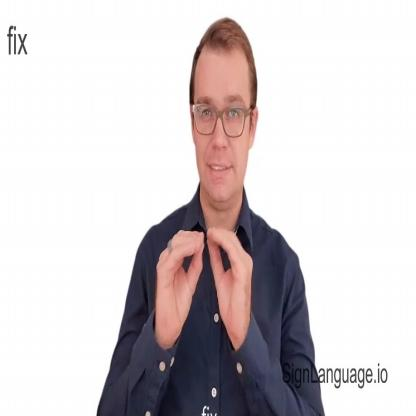Fix: (155, 207, 260, 355)
